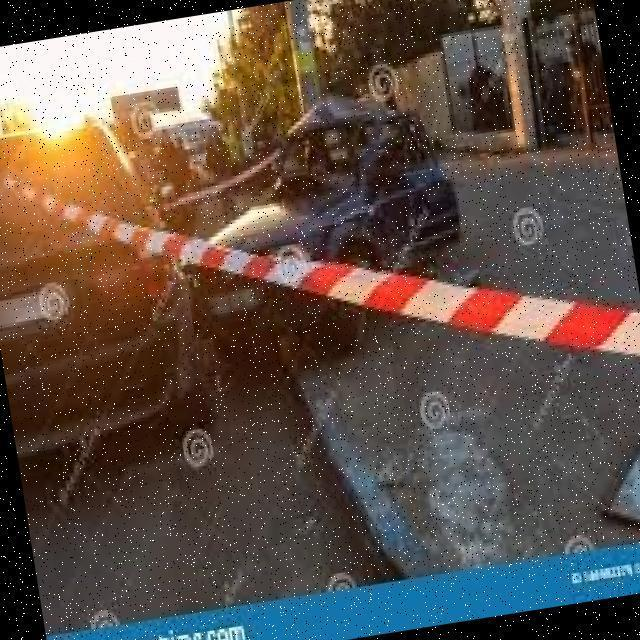accident: (165, 61, 503, 369)
